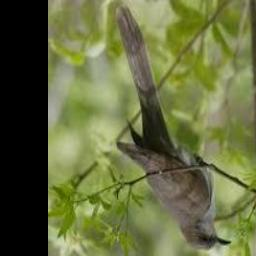Cuckoo: (116, 5, 231, 250)
